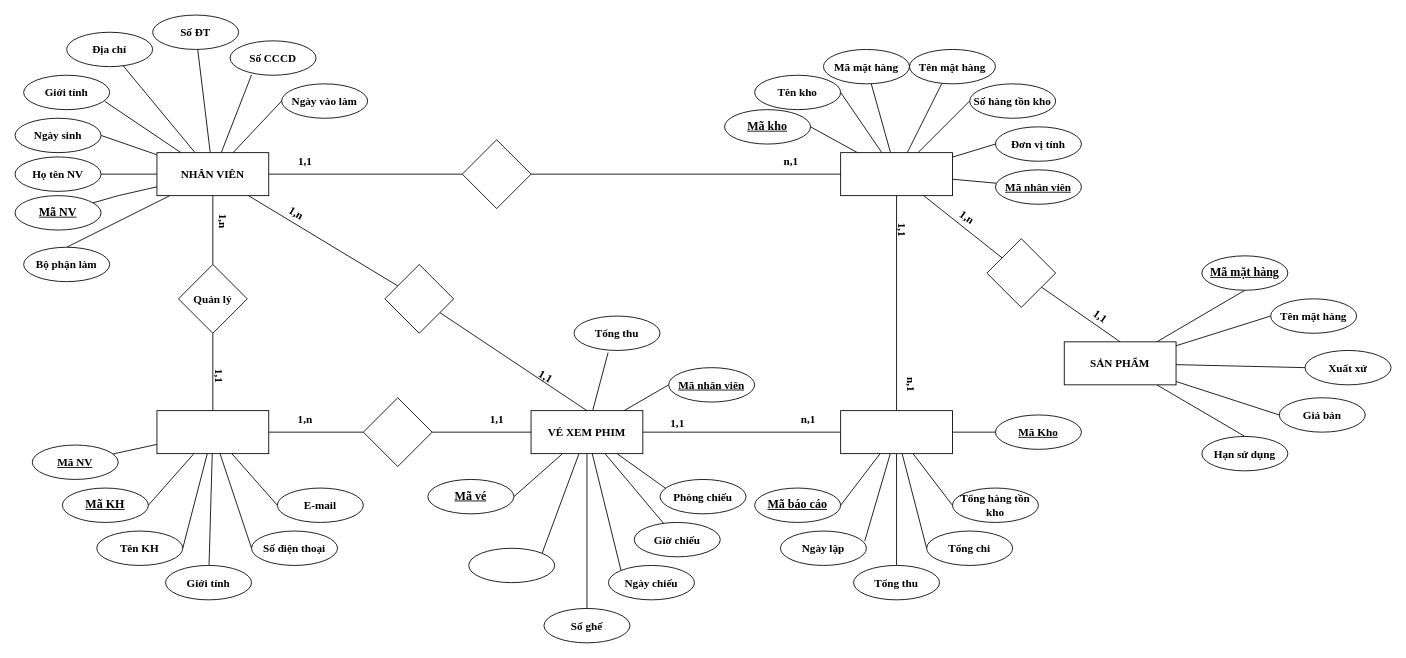
Image size: 1406x658. Some labels were removed from this diagram. The centre of each missing label's shape, as x and y in pixels:
BÁO CÁO THỐNG KÊ: (x=896, y=432)
Giám sát: (x=496, y=174)
KHO HÀNG: (x=896, y=174)
Khách hàng: (x=212, y=432)
Mua: (x=397, y=432)
Nhập vào: (x=1021, y=272)
Tên Phim: (x=511, y=565)
Tạo: (x=419, y=298)
